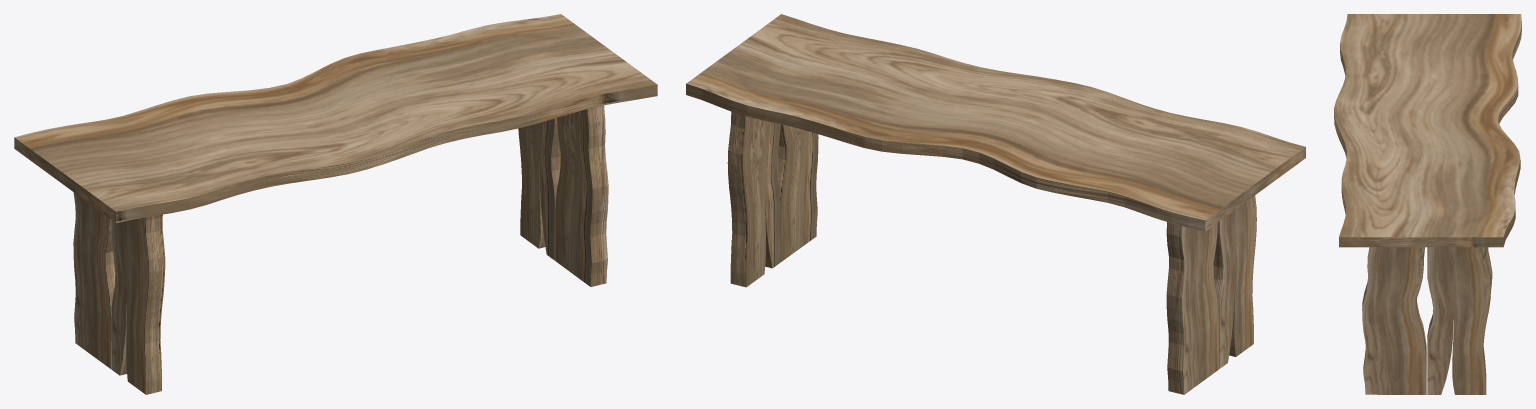
File: WoodenTable.fbx
The picture shows the model from 3 angles, left to right: view 1: azimuth 30°, elevation 25°; view 2: azimuth 150°, elevation 25°; view 3: azimuth 270°, elevation 25°; orthographic projection. The views are drawn at different scales.
Parts seen in each view (by area): view 1: Cube; view 2: Cube; view 3: Cube.
Boxes of the visible parts, x1,y1,x2,y2 form: Cube: [14, 14, 657, 394]; Cube: [686, 14, 1305, 394]; Cube: [1334, 14, 1521, 394].
Bounding box in the file's own units: 596 × 214 × 211.
